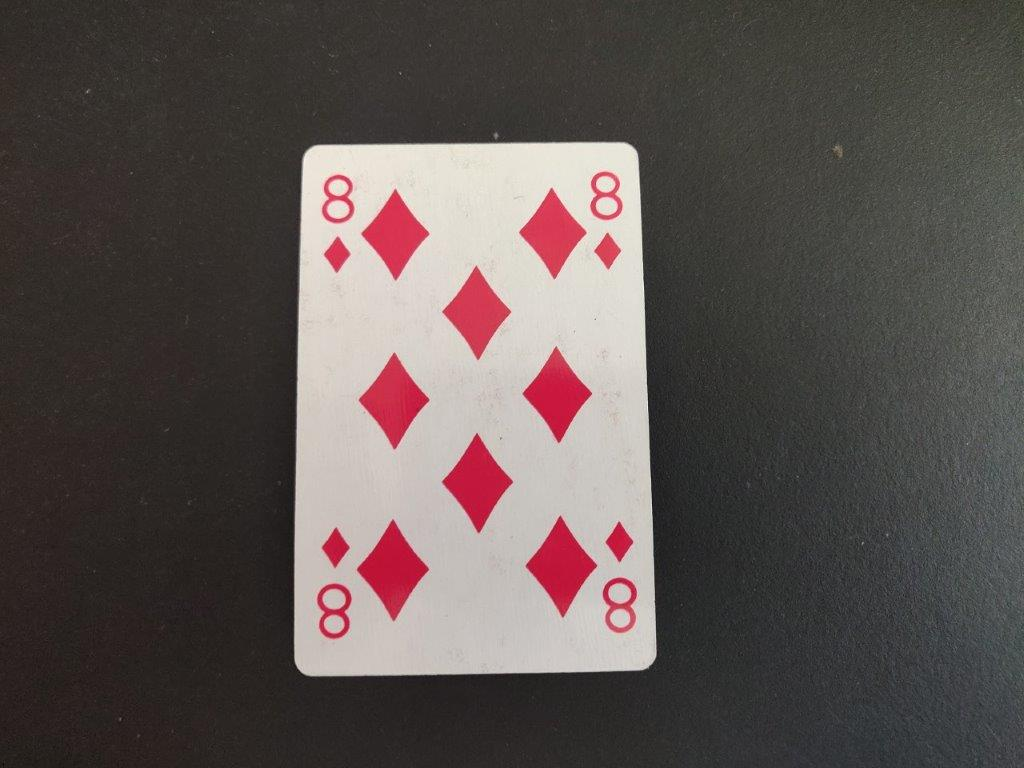8D: (312, 170, 360, 279), (585, 169, 631, 280)
